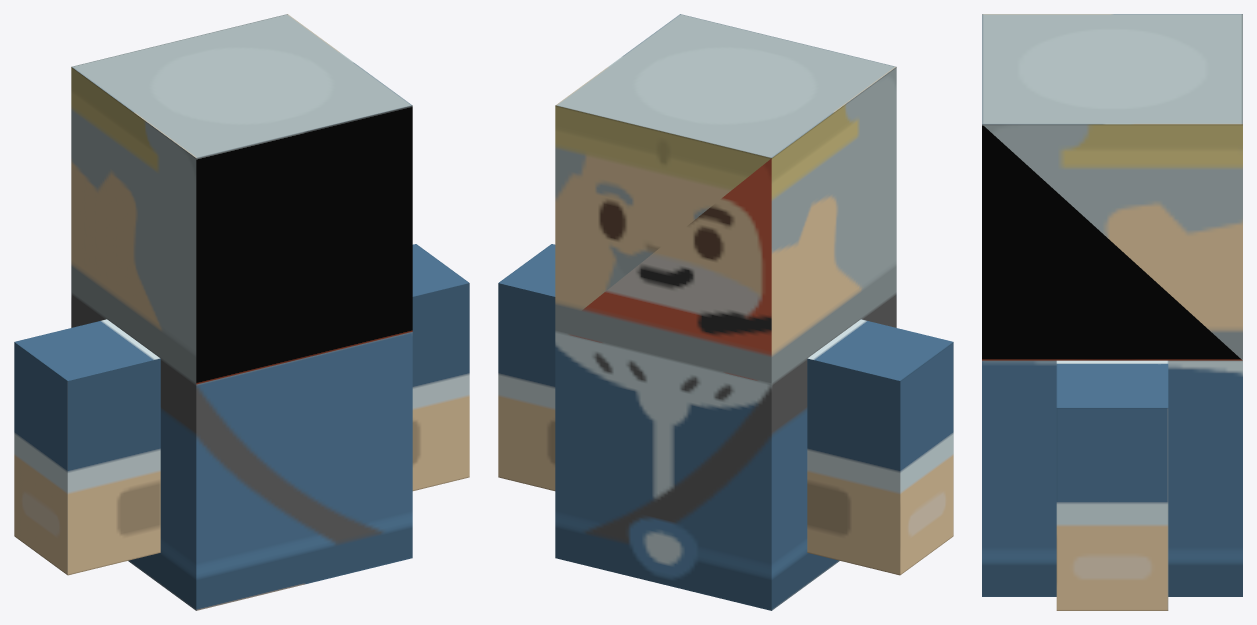
The model's file is king.glb.
3 renders of one model, left to right at view 1: azimuth 30°, elevation 25°; view 2: azimuth 150°, elevation 25°; view 3: azimuth 270°, elevation 25°, orthographic. The views are drawn at different scales.
Visible parts, largest first — view 1: king; view 2: king; view 3: king.
Boxes of the visible parts, x1=… form: king: x1=14, y1=14, x2=469, y2=610; king: x1=498, y1=14, x2=953, y2=610; king: x1=982, y1=14, x2=1242, y2=610.
Bounding box in the file's own units: 4.83 × 5.2 × 2.6.
Materials: 2 (2 with a texture image).
